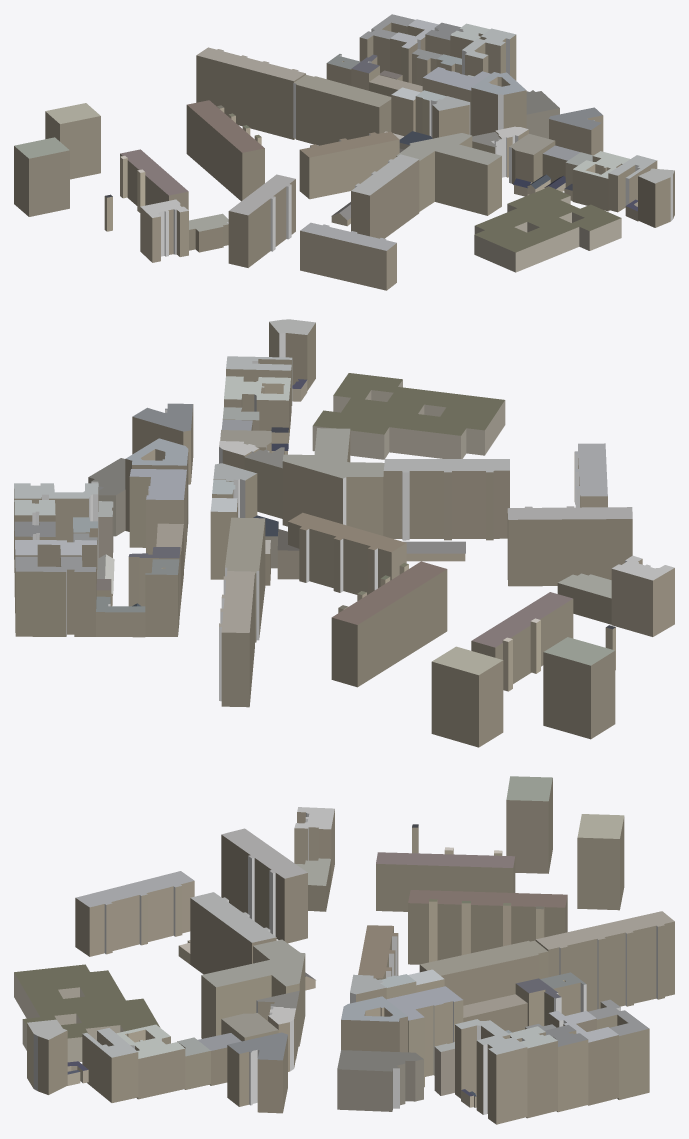
3 views of the same model, one above another, from view 1: azimuth 30°, elevation 25°; view 2: azimuth 150°, elevation 25°; view 3: azimuth 270°, elevation 25° (orthographic). The views are drawn at different scales.
Parts seen in each view (by area): view 1: tuile; view 2: tuile; view 3: tuile.
Part boxes in pixels (x1=…): tuile: x1=14, y1=14, x2=674, y2=290; tuile: x1=14, y1=319, x2=674, y2=747; tuile: x1=14, y1=776, x2=674, y2=1124.
Bounding box in the file's own units: 272 × 38.84 × 260.
